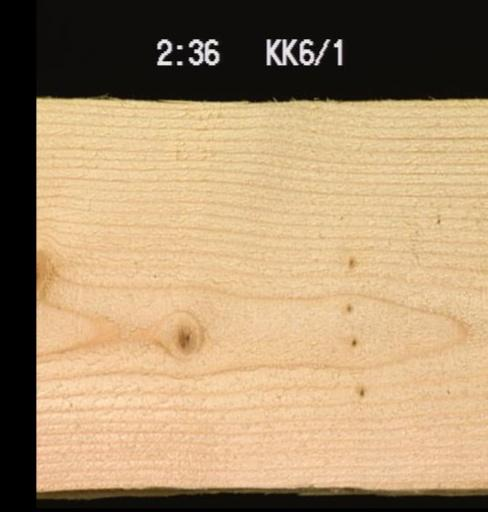small_knot: (343, 331, 369, 354), (353, 377, 375, 404), (341, 248, 361, 271), (340, 294, 359, 317)
sound_knot: (157, 308, 212, 361), (36, 237, 53, 296)
